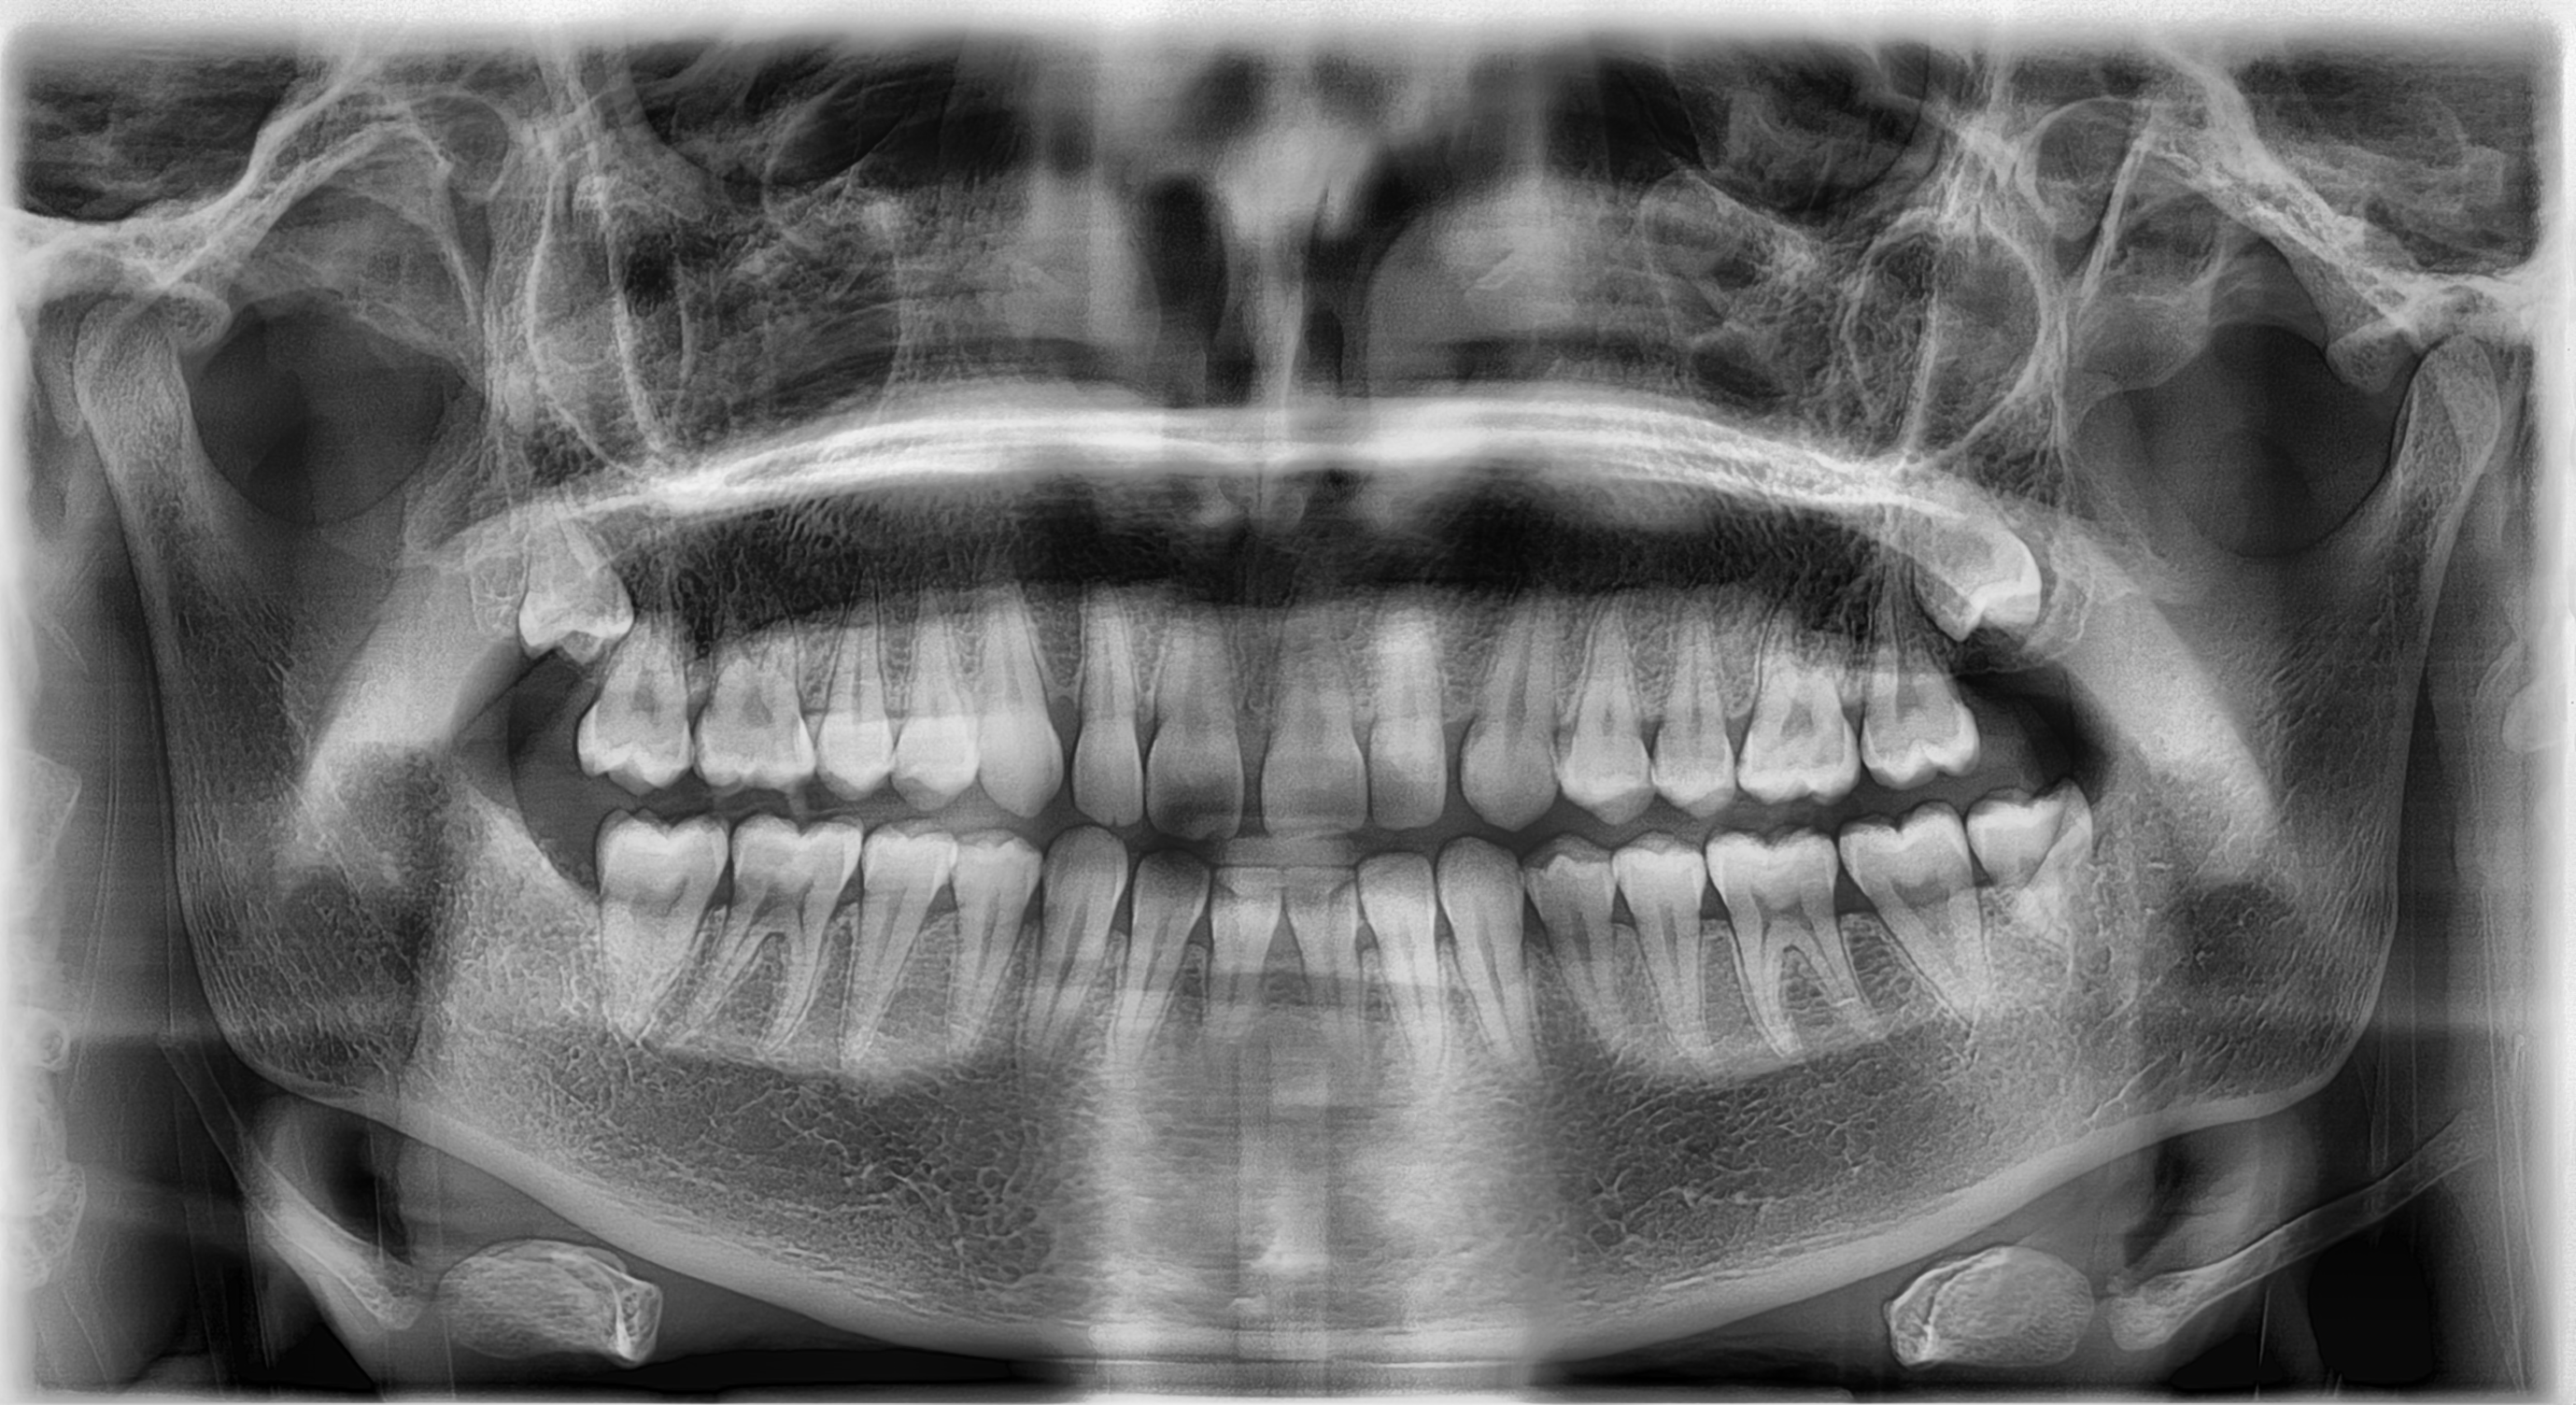cordal: (1938, 746, 2149, 962), (1889, 457, 2100, 673), (477, 462, 689, 677)
diastema: (1202, 593, 1296, 853), (1413, 581, 1505, 841)
